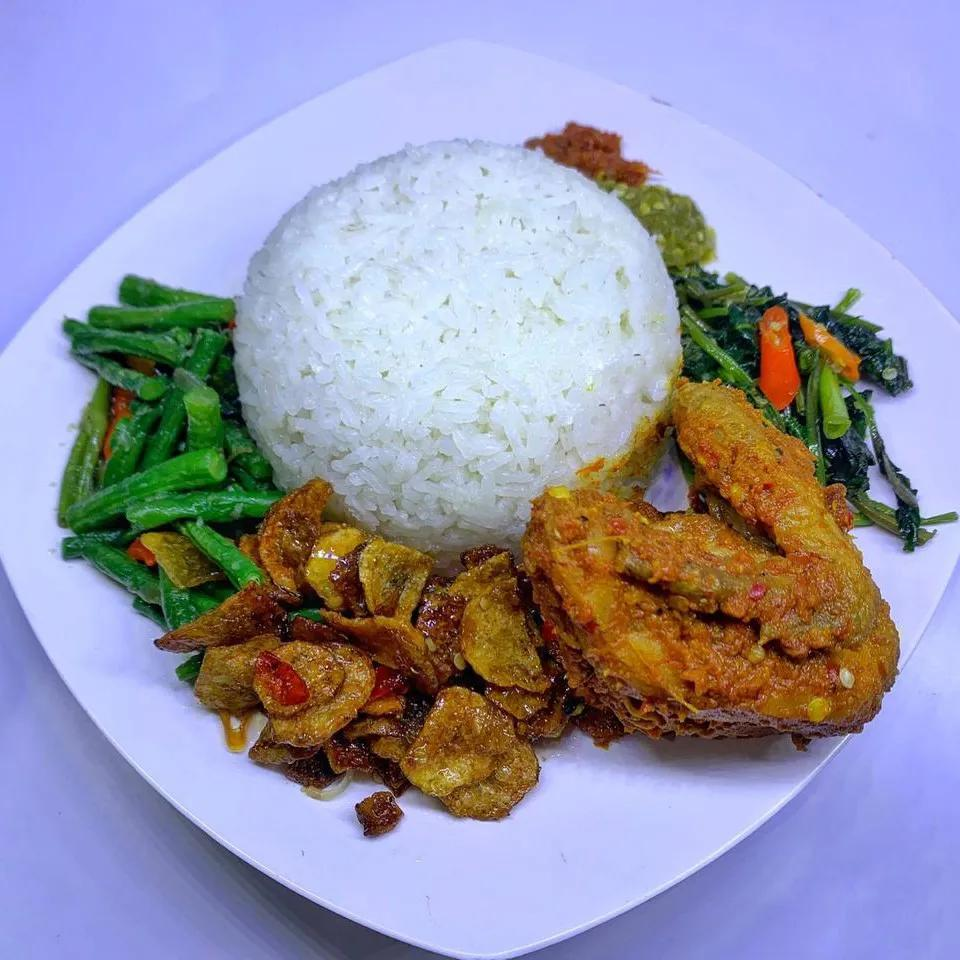buah_sayur_lainnya: (100, 318, 220, 535)
buah_sayur_vitA: (695, 291, 873, 375)
daging: (570, 513, 838, 702)
makanan_berpati: (295, 208, 621, 446), (288, 582, 498, 771)
